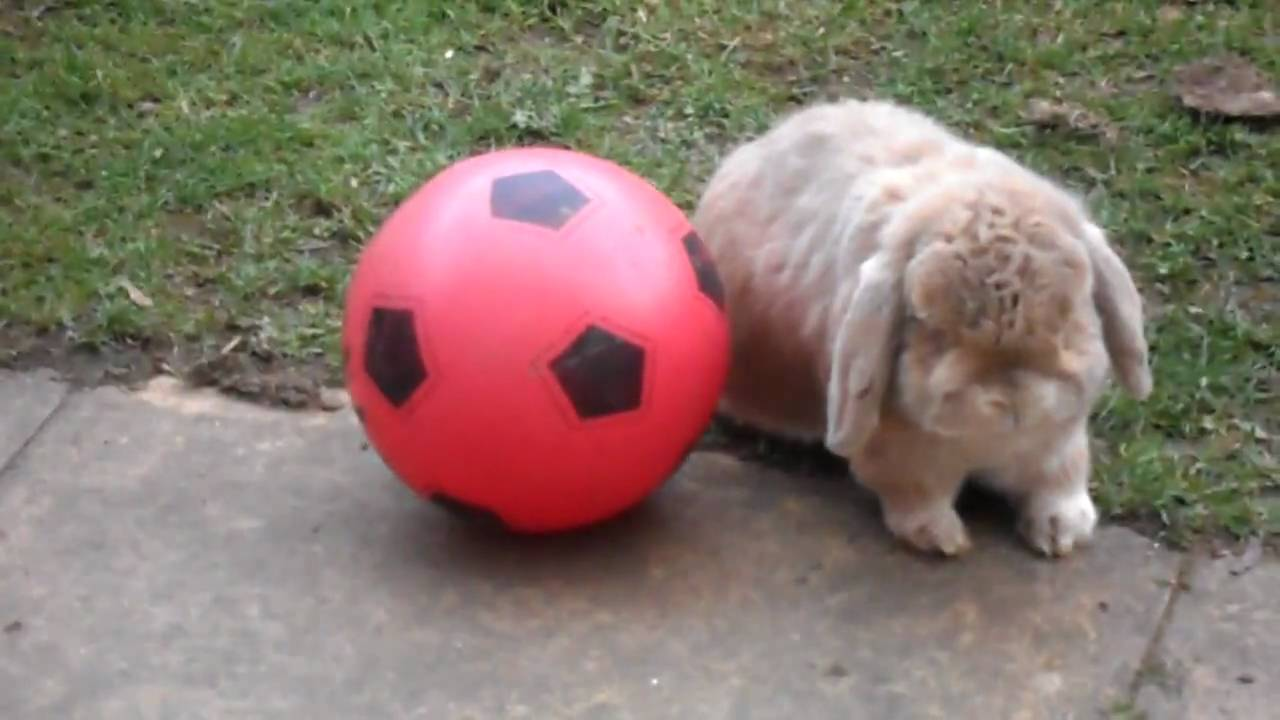bunny: (698, 51, 1176, 590)
